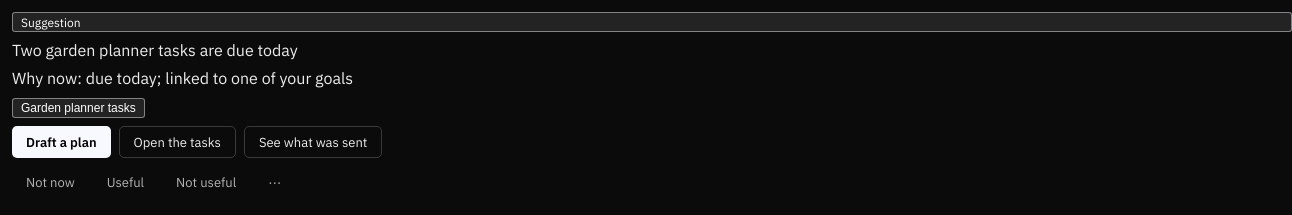
Test: clicking Useful marks it pressed, reading Marked useful
The width and height of the screenshot is (1292, 215).
Click the button "Useful". click: [125, 182]
box: x1=93 y1=166 x2=158 y2=198
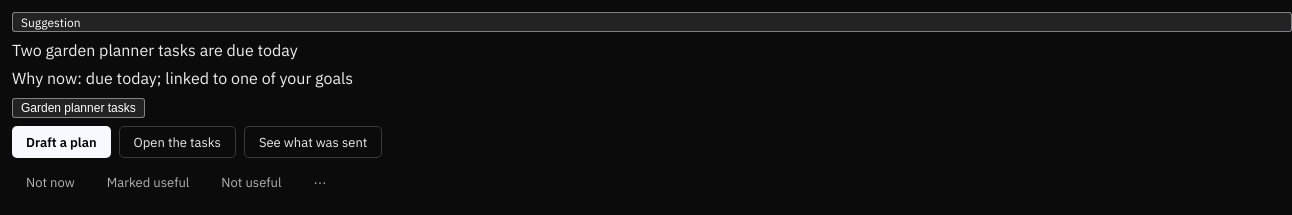
Expected: the button "Marked useful" is pressed, x1=93 y1=166 x2=203 y2=198
